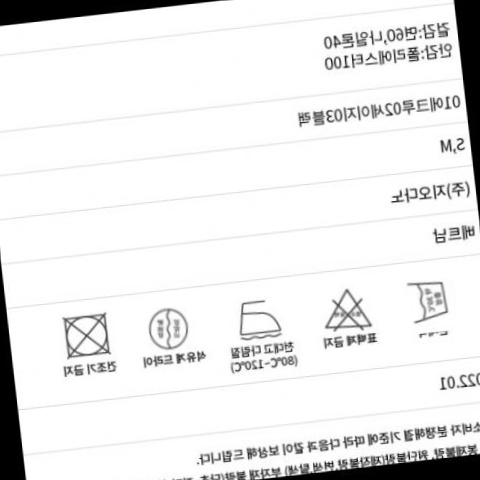30C: (401, 274, 452, 326)
DN_tumble_dry: (57, 310, 117, 360)
dry_clean_petrol_only: (138, 300, 192, 353)
iron: (231, 290, 287, 341)
non_chlorine_bleach: (315, 280, 375, 335)
